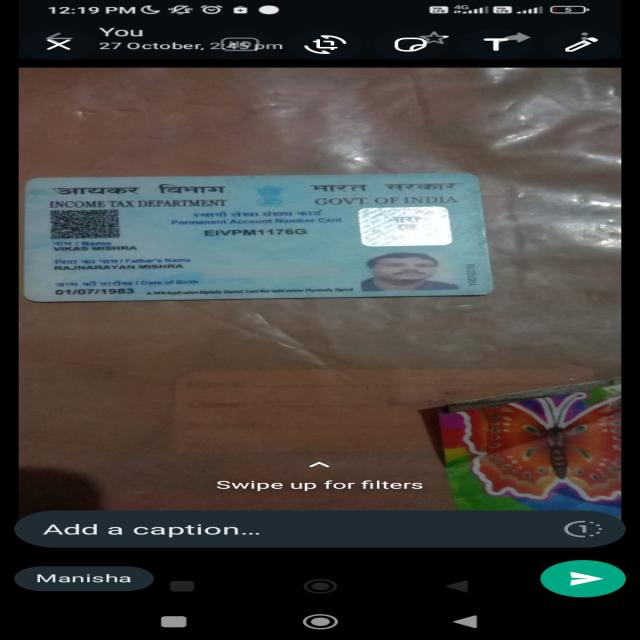pan_card: (36, 174, 491, 300)
